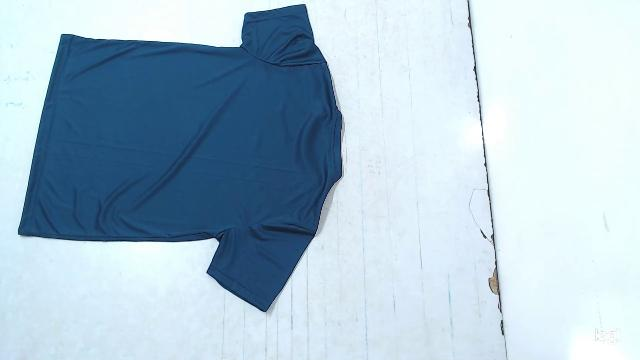new-garment: (18, 5, 342, 311)
